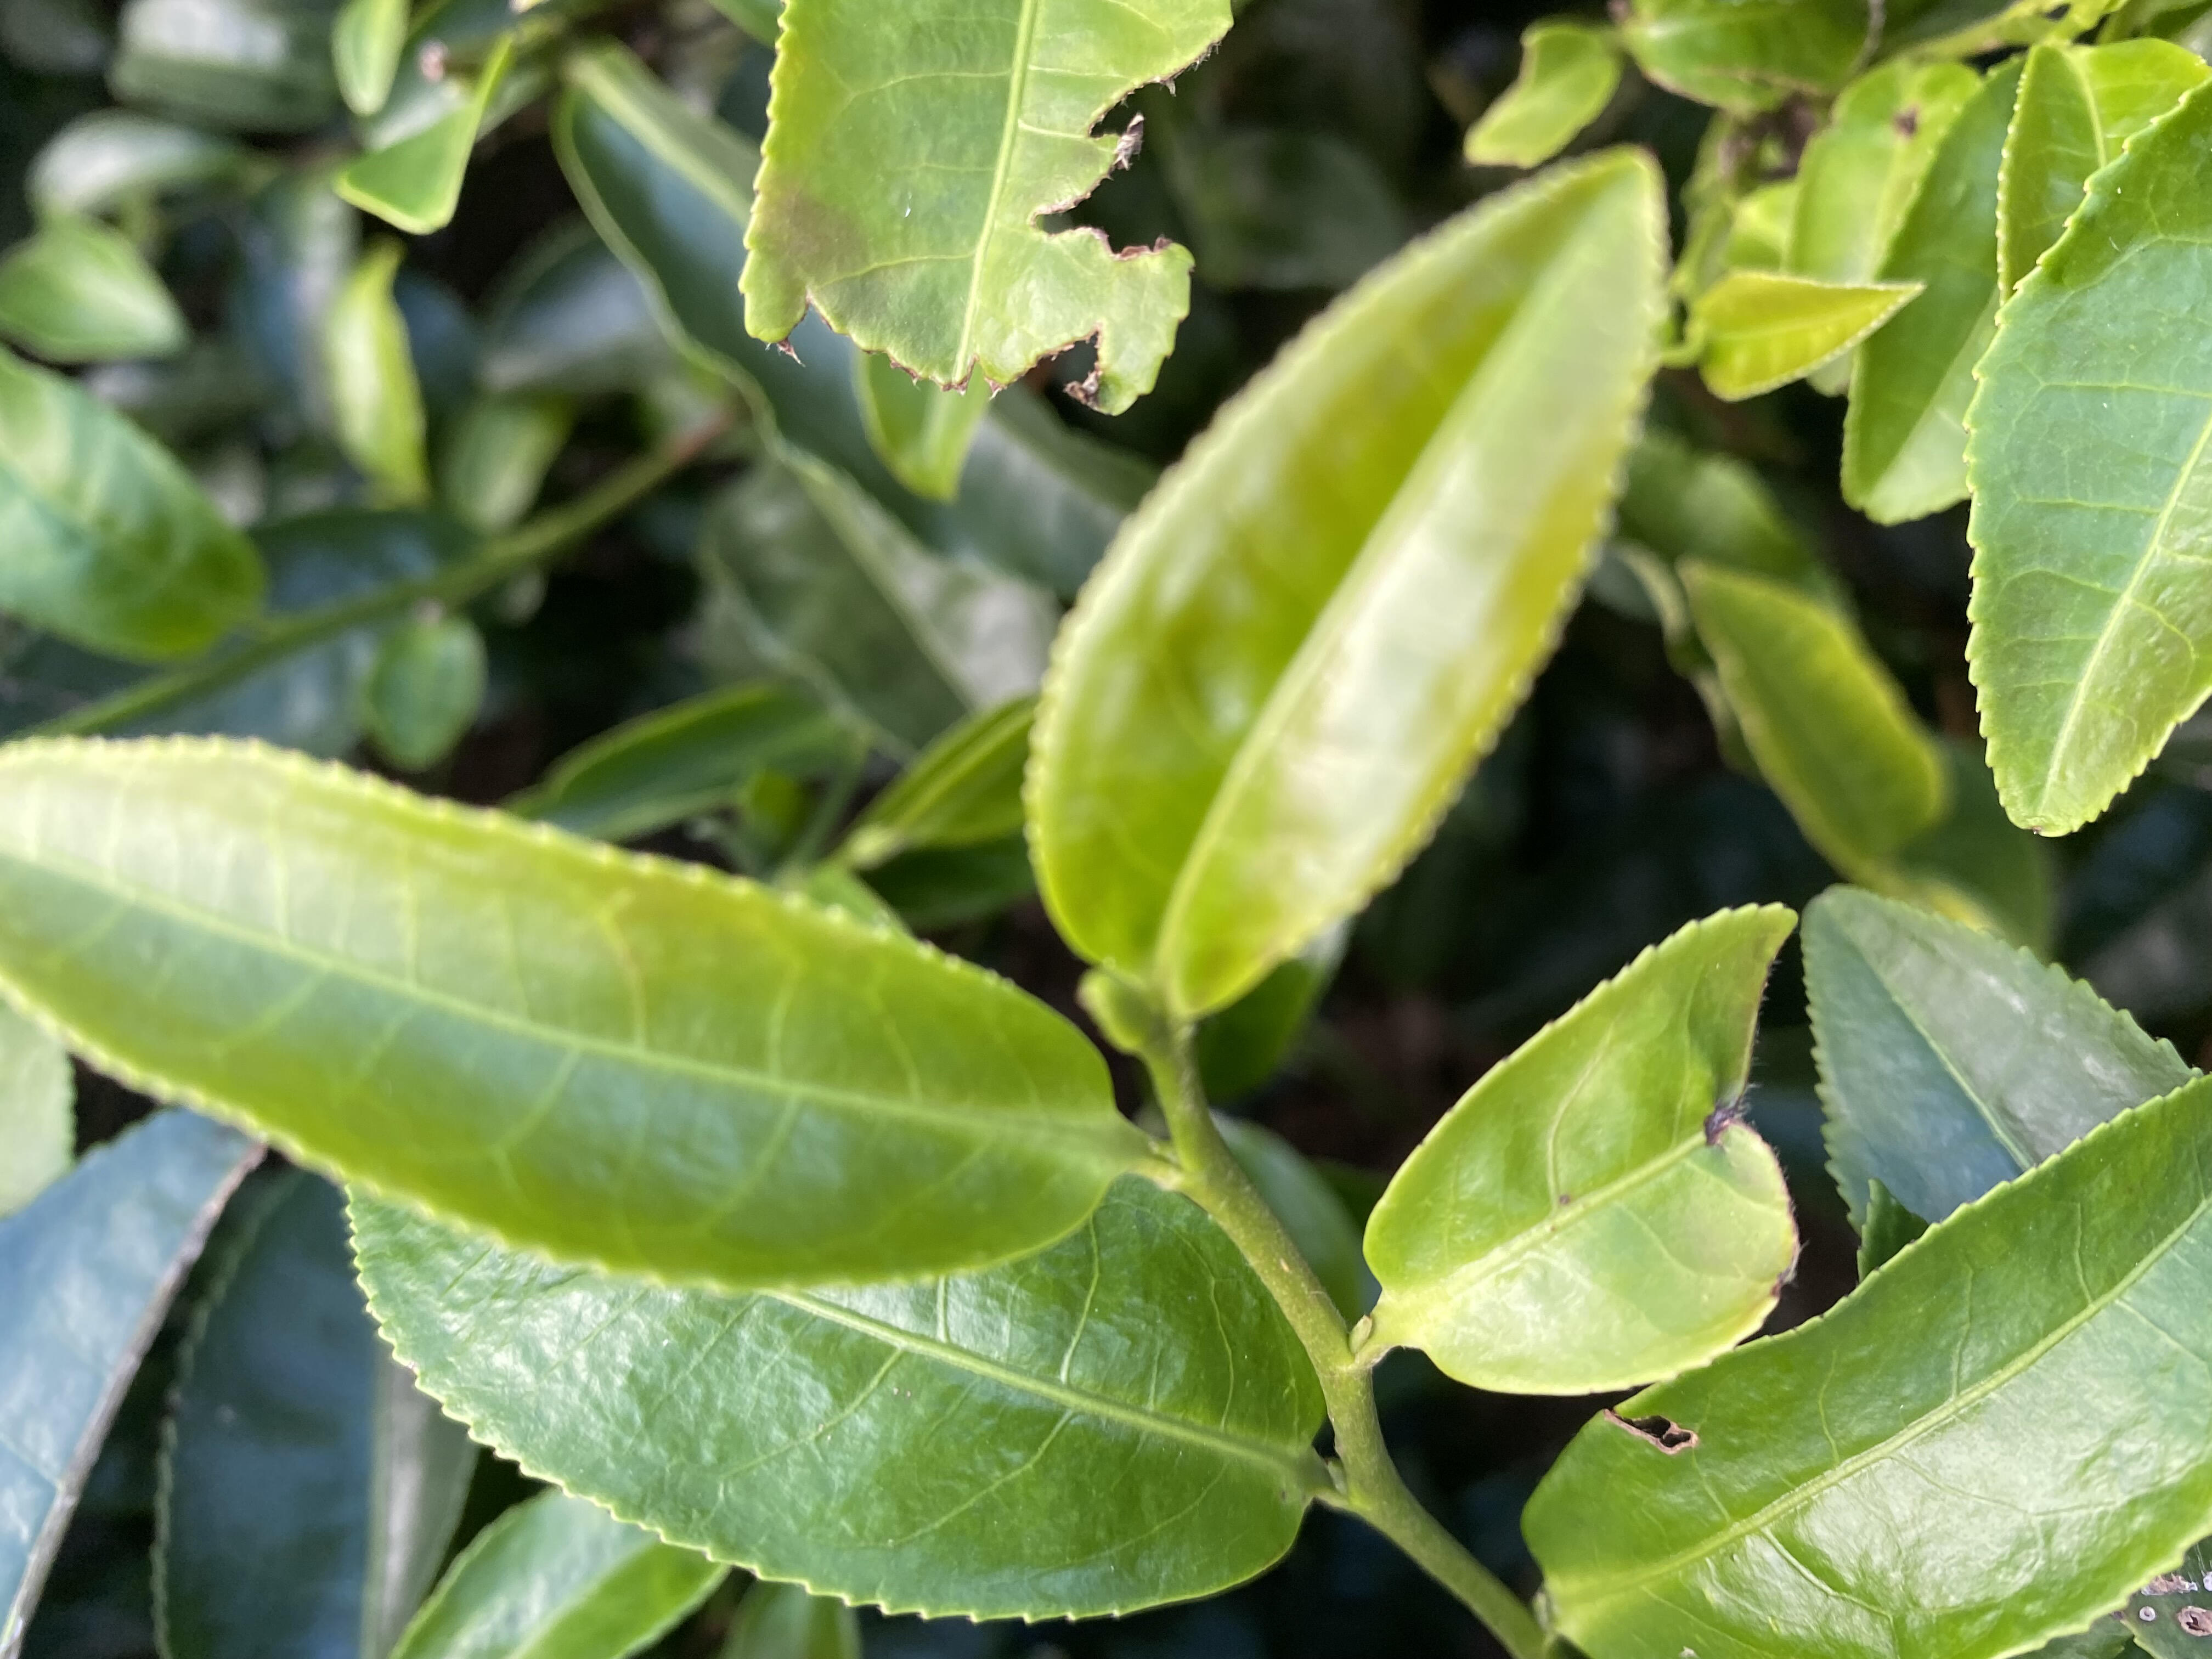chihuo_high: (732, 2, 1247, 422), (1362, 899, 1801, 1391)
chihuo_low: (1519, 1077, 2212, 1652)
healthy: (0, 727, 1113, 1295), (1024, 139, 1677, 1026)
